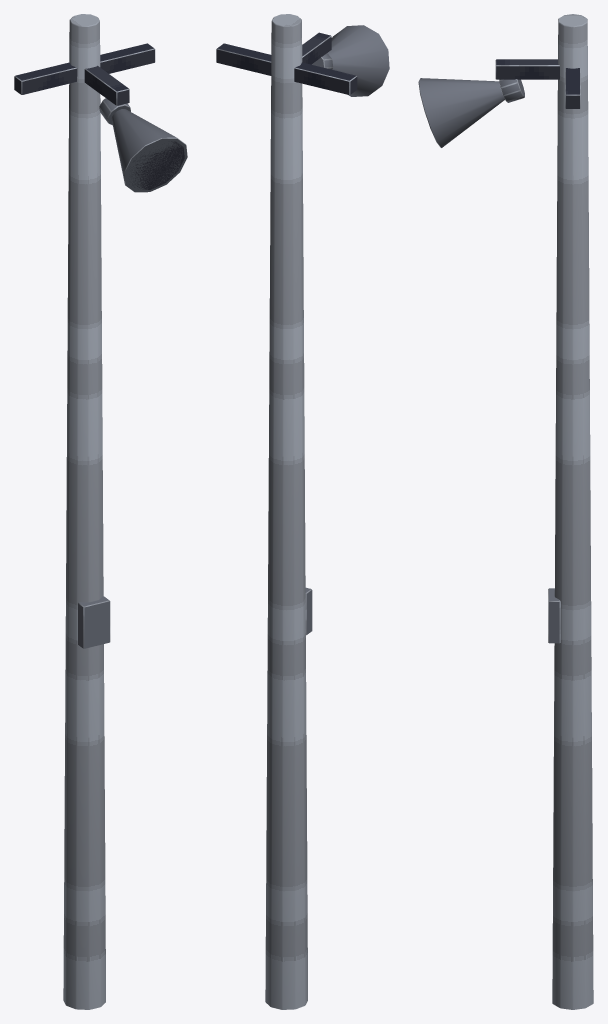
File: cn_loudspeaker_pole_1.glb
The picture shows the model from 3 angles, left to right: view 1: azimuth 30°, elevation 25°; view 2: azimuth 150°, elevation 25°; view 3: azimuth 270°, elevation 25°; orthographic projection.
Parts seen in each view (by area): view 1: cn_loudspeaker_pole_2; view 2: cn_loudspeaker_pole_2; view 3: cn_loudspeaker_pole_2.
Boxes of the visible parts, box(x1,y1,x2,y2) form: cn_loudspeaker_pole_2: box(14, 14, 187, 1009); cn_loudspeaker_pole_2: box(216, 14, 389, 1009); cn_loudspeaker_pole_2: box(418, 14, 593, 1009).
Bounding box in the file's own units: 1 × 7 × 1.13.
Materials: 5 (5 with a texture image).
